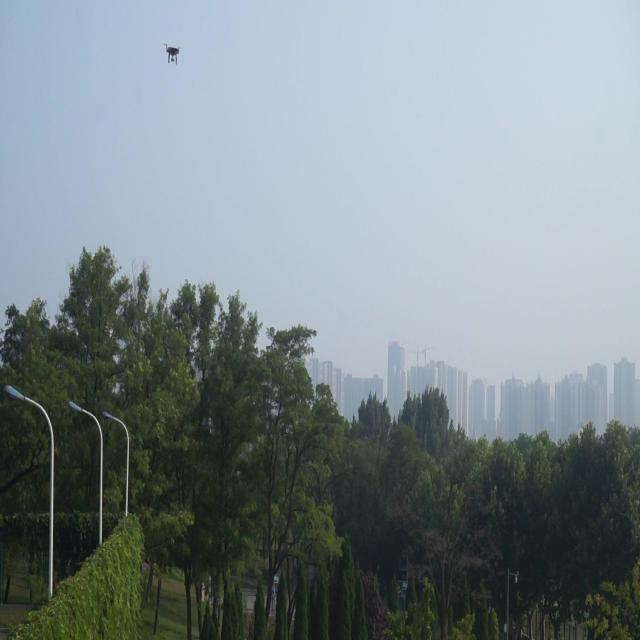UAV: (164, 44, 182, 64)
